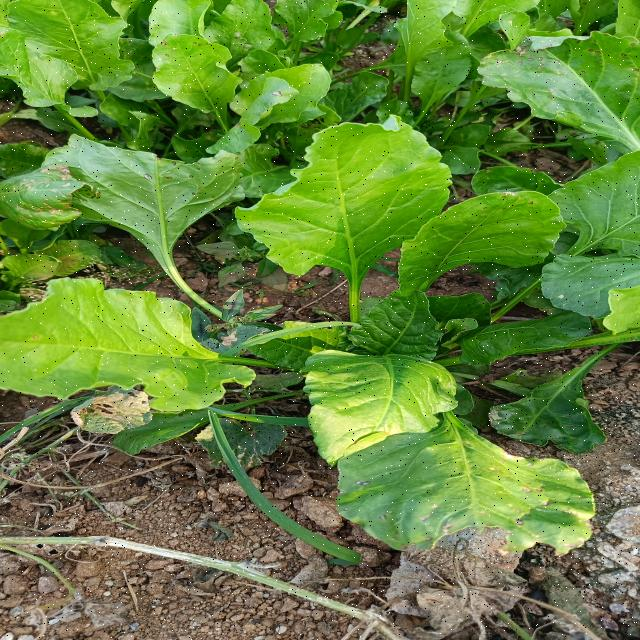leaves: (6, 90, 322, 305), (305, 368, 600, 570), (227, 97, 459, 334), (350, 166, 581, 342), (1, 275, 262, 422), (109, 1, 276, 179), (266, 337, 467, 467), (468, 38, 635, 164)
